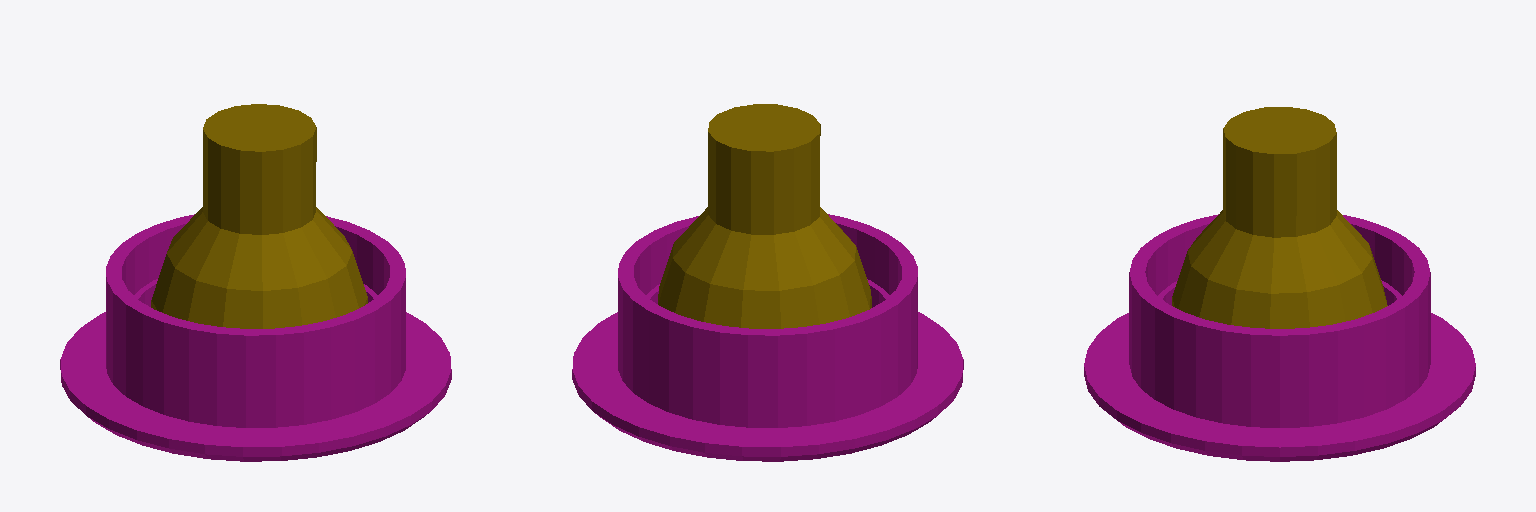
File: 011008_Banale_Weng_Lightstar.obj
The picture shows the model from 3 angles: view 1: azimuth 30°, elevation 25°; view 2: azimuth 150°, elevation 25°; view 3: azimuth 270°, elevation 25°; orthographic projection.
Parts seen in each view (by area): view 1: Rectangle042, Bulb_GU10_led_004; view 2: Rectangle042, Bulb_GU10_led_004; view 3: Rectangle042, Bulb_GU10_led_004.
Boxes of the visible parts, x1,y1,x2,y2 form: Rectangle042: [60, 214, 451, 461]; Bulb_GU10_led_004: [151, 104, 367, 328]; Rectangle042: [572, 214, 963, 461]; Bulb_GU10_led_004: [658, 104, 871, 328]; Rectangle042: [1084, 214, 1475, 461]; Bulb_GU10_led_004: [1172, 107, 1387, 328].
Size of the model in its own units: 80 by 57.3 by 80.